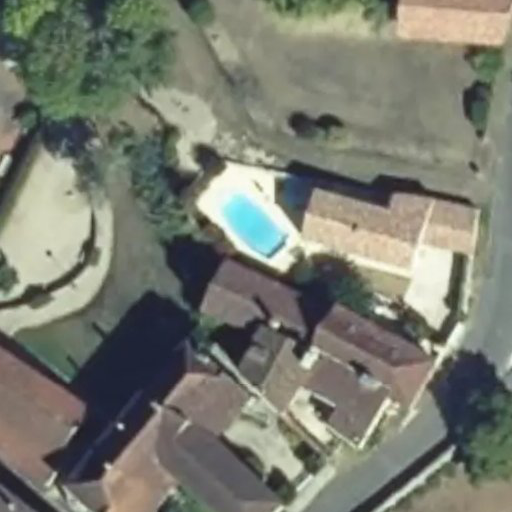pool: (212, 226, 300, 256)
